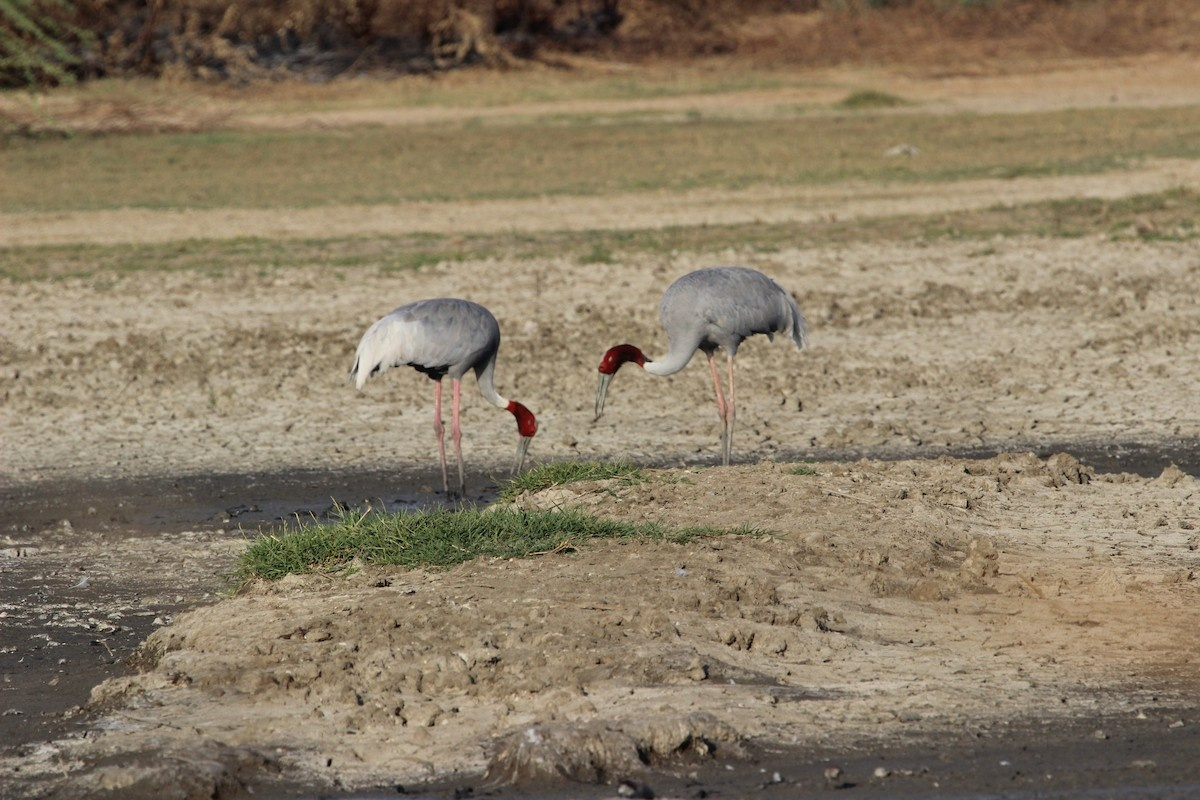crane: (583, 264, 816, 459), (352, 291, 554, 472)
